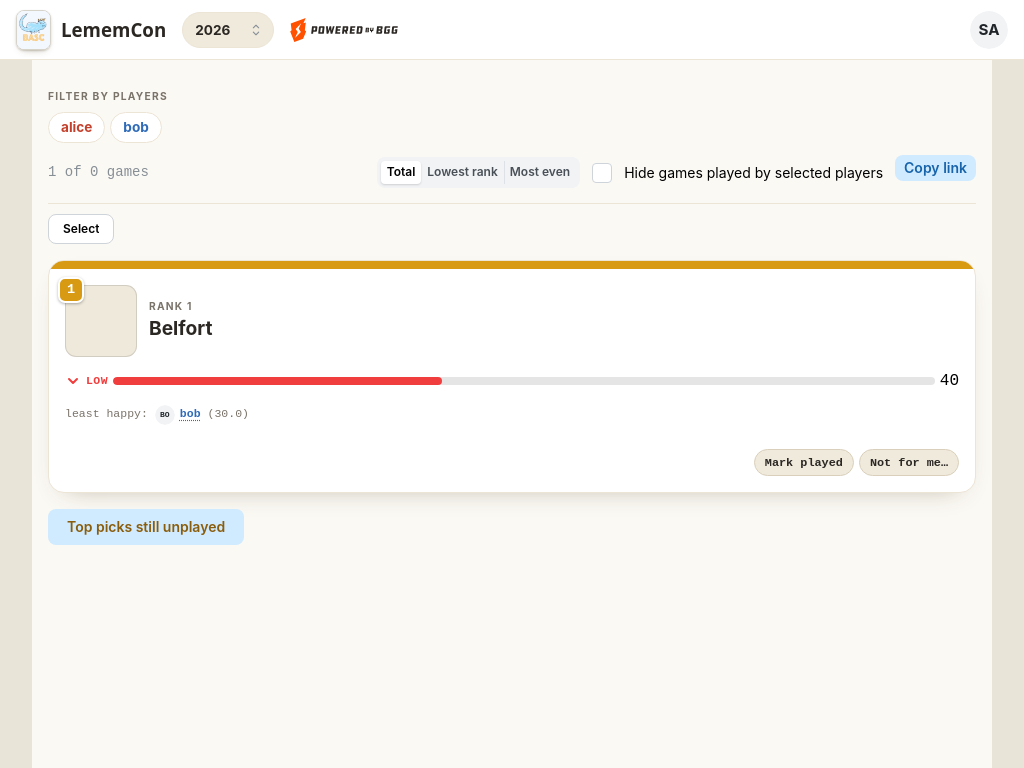
Test case: Scoreboard › marking played › marks the chosen members and then the member themself
Click the button with aria-label "Played:".
click(804, 463)  # box [754,449,854,476]
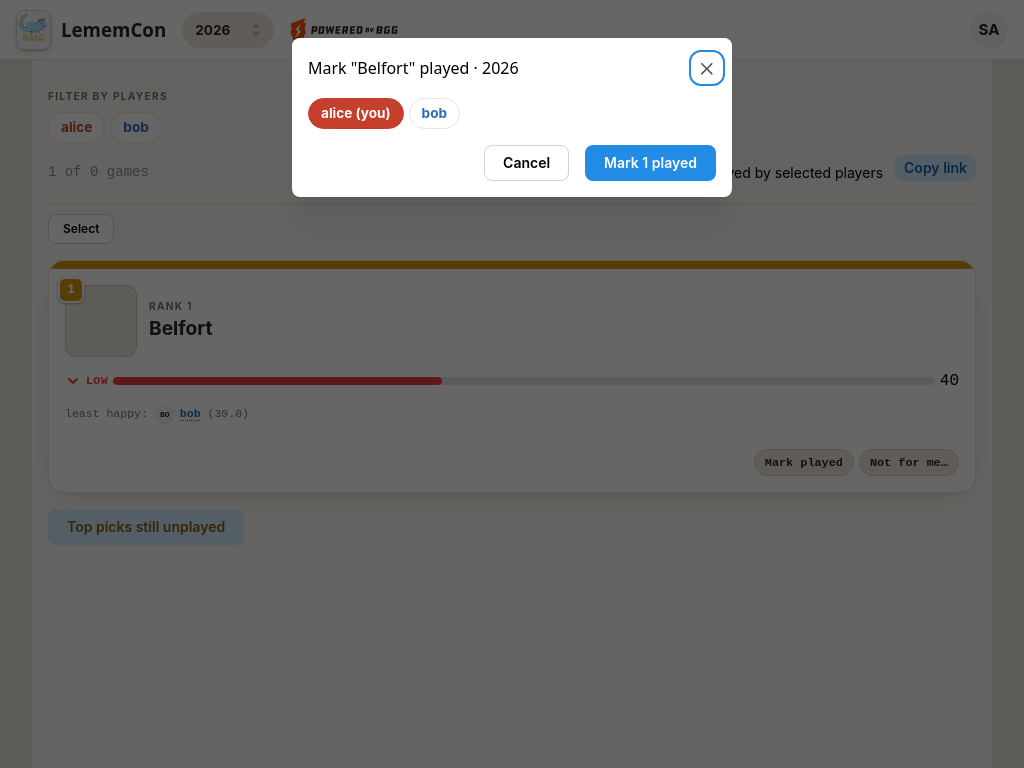
Click the button "bob".
click(434, 114)  # box [409,98,460,129]
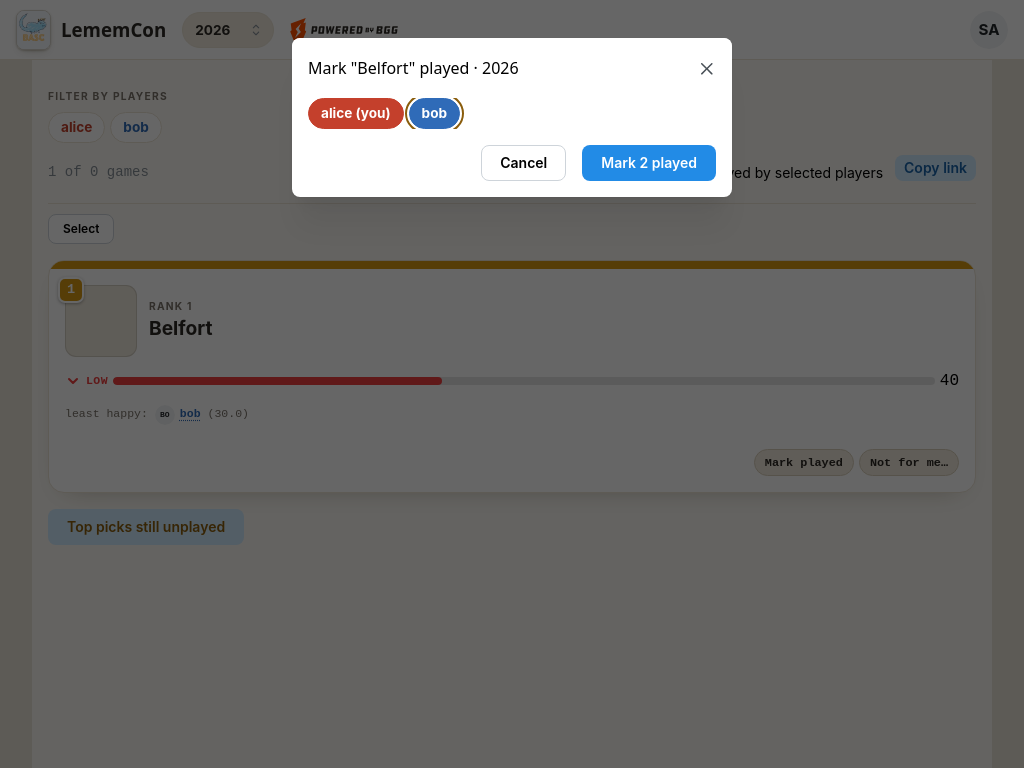
Click the button "Mark 2 played".
click(649, 163)  # box [582,145,716,181]
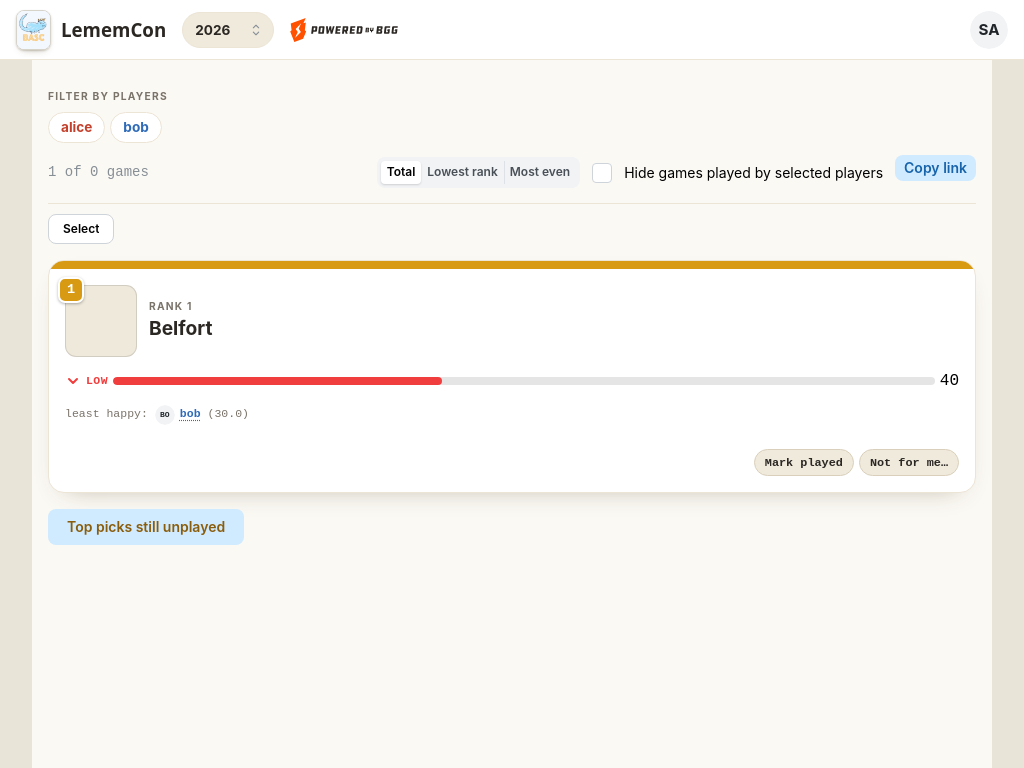
Expected: the dialog is gone
